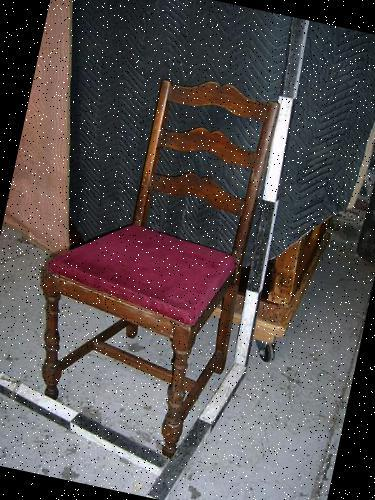Silla: (23, 49, 287, 459)
